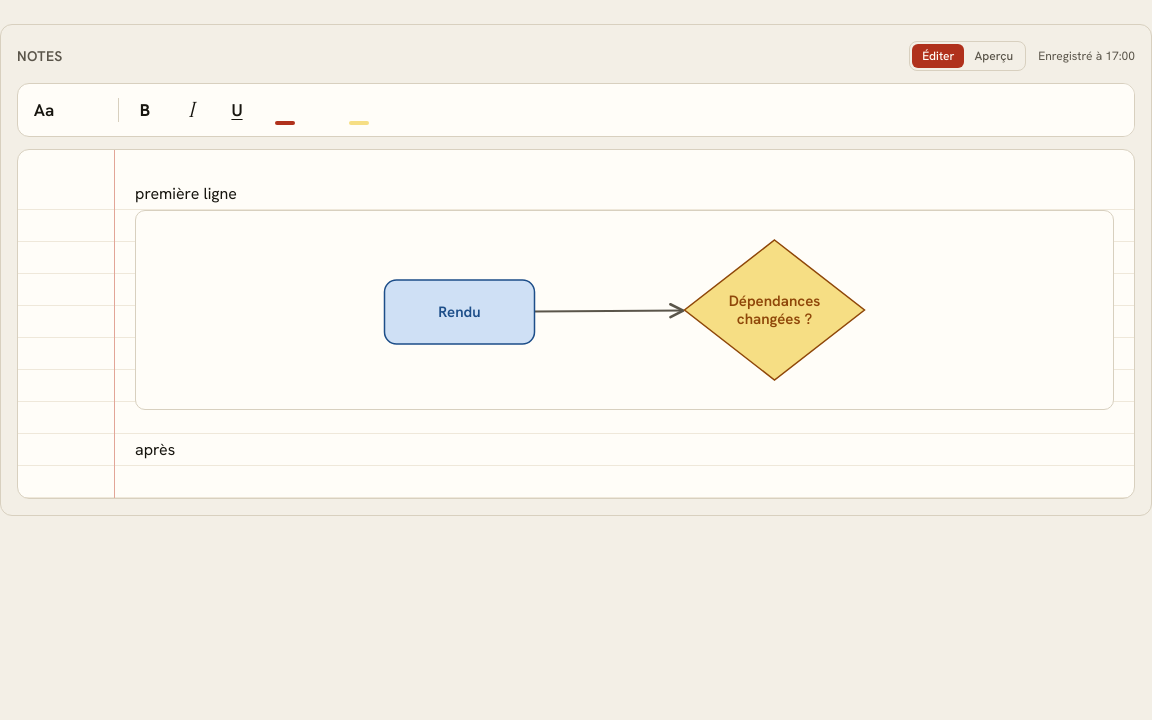
diagrams in a note (YC-53) › on a phone, a thumbnail; a touch opens it full screen to edit, « Fermer » closes it
Expected: the field named "Note de la vidéo" shows "première", [18, 150, 1134, 498]
Click the button with aria-label "Agrandir le schéma" at (624, 310), box [135, 210, 1114, 410]
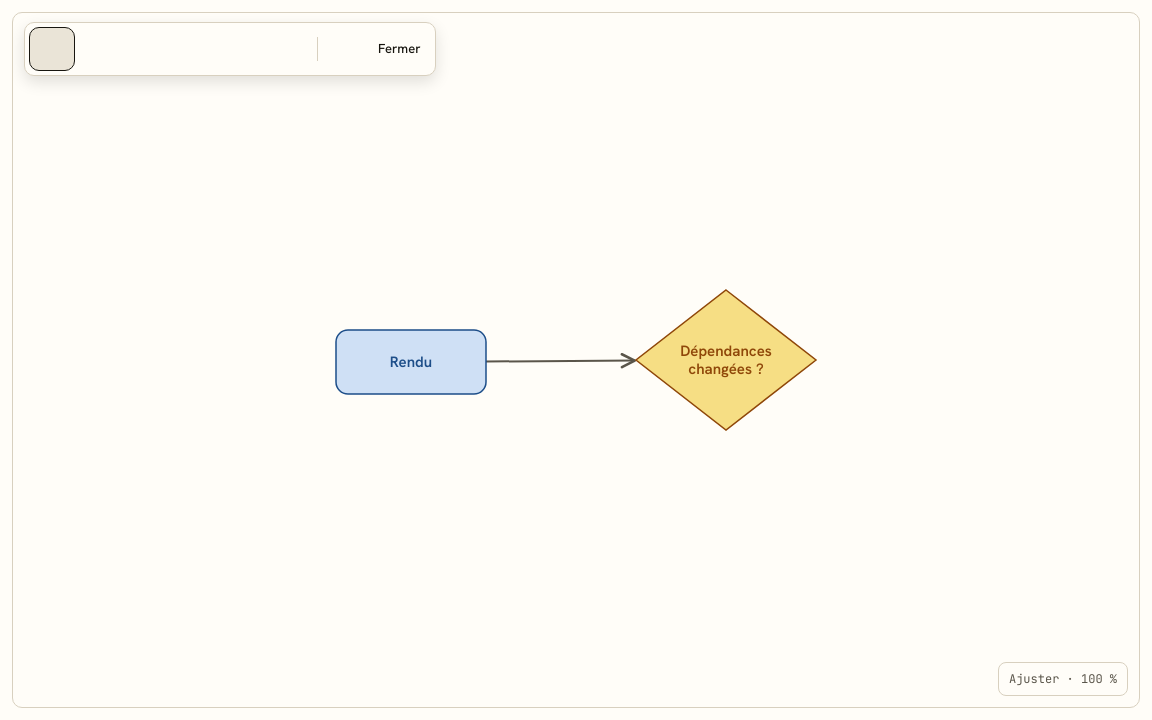
Expected: the element named "Schéma" is shown, [24, 22, 436, 76]
Click the button "Fermer" at (399, 49), box [368, 27, 430, 71]
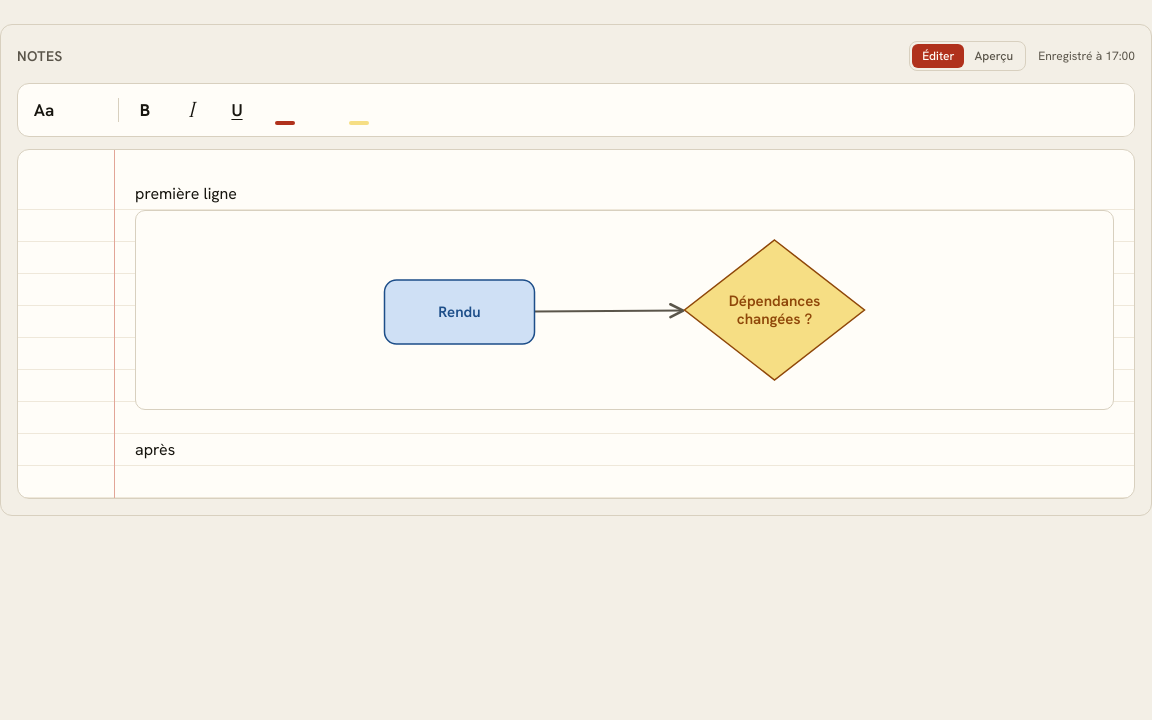
Expected: the dialog "Schéma" is gone
